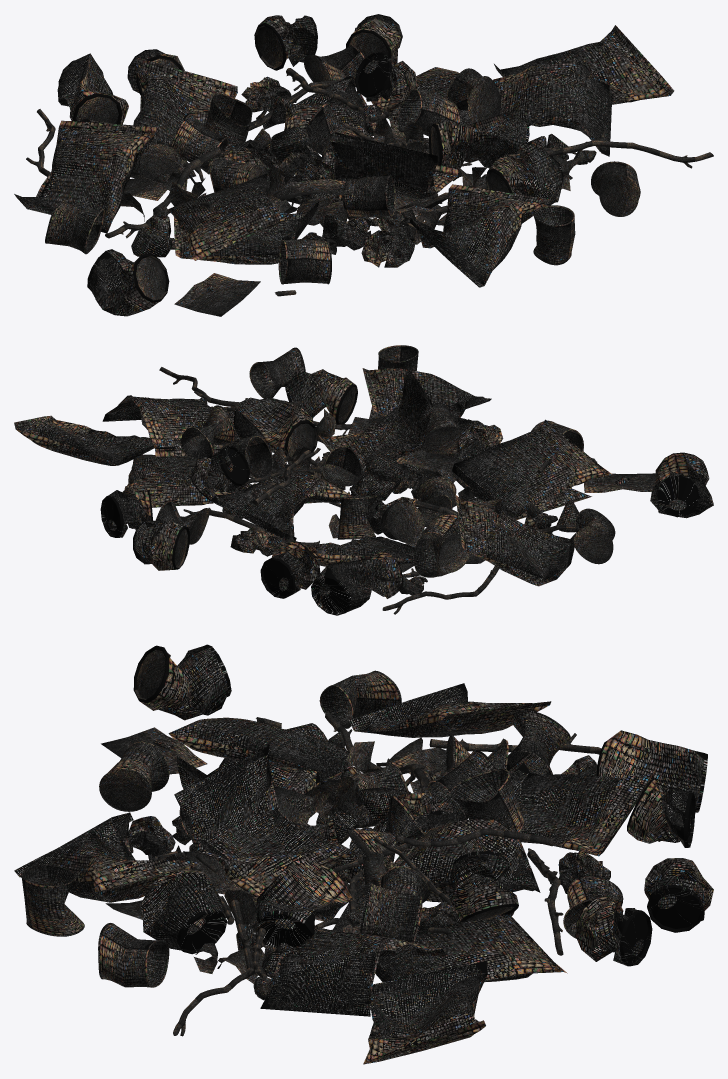
Rendered from TrashPile.fbx.
3 renders of one model, top to bottom at view 1: azimuth 30°, elevation 25°; view 2: azimuth 150°, elevation 25°; view 3: azimuth 270°, elevation 25°, orthographic. The views are drawn at different scales.
Visible parts, largest first — view 1: Object001; view 2: Object001; view 3: Object001.
Boxes of the visible parts, x1,y1,x2,y2 form: Object001: (14, 14, 713, 316); Object001: (14, 345, 713, 615); Object001: (14, 644, 713, 1064).
Bounding box in the file's own units: 128 × 16.72 × 99.51.
1 material, 1 textured.
